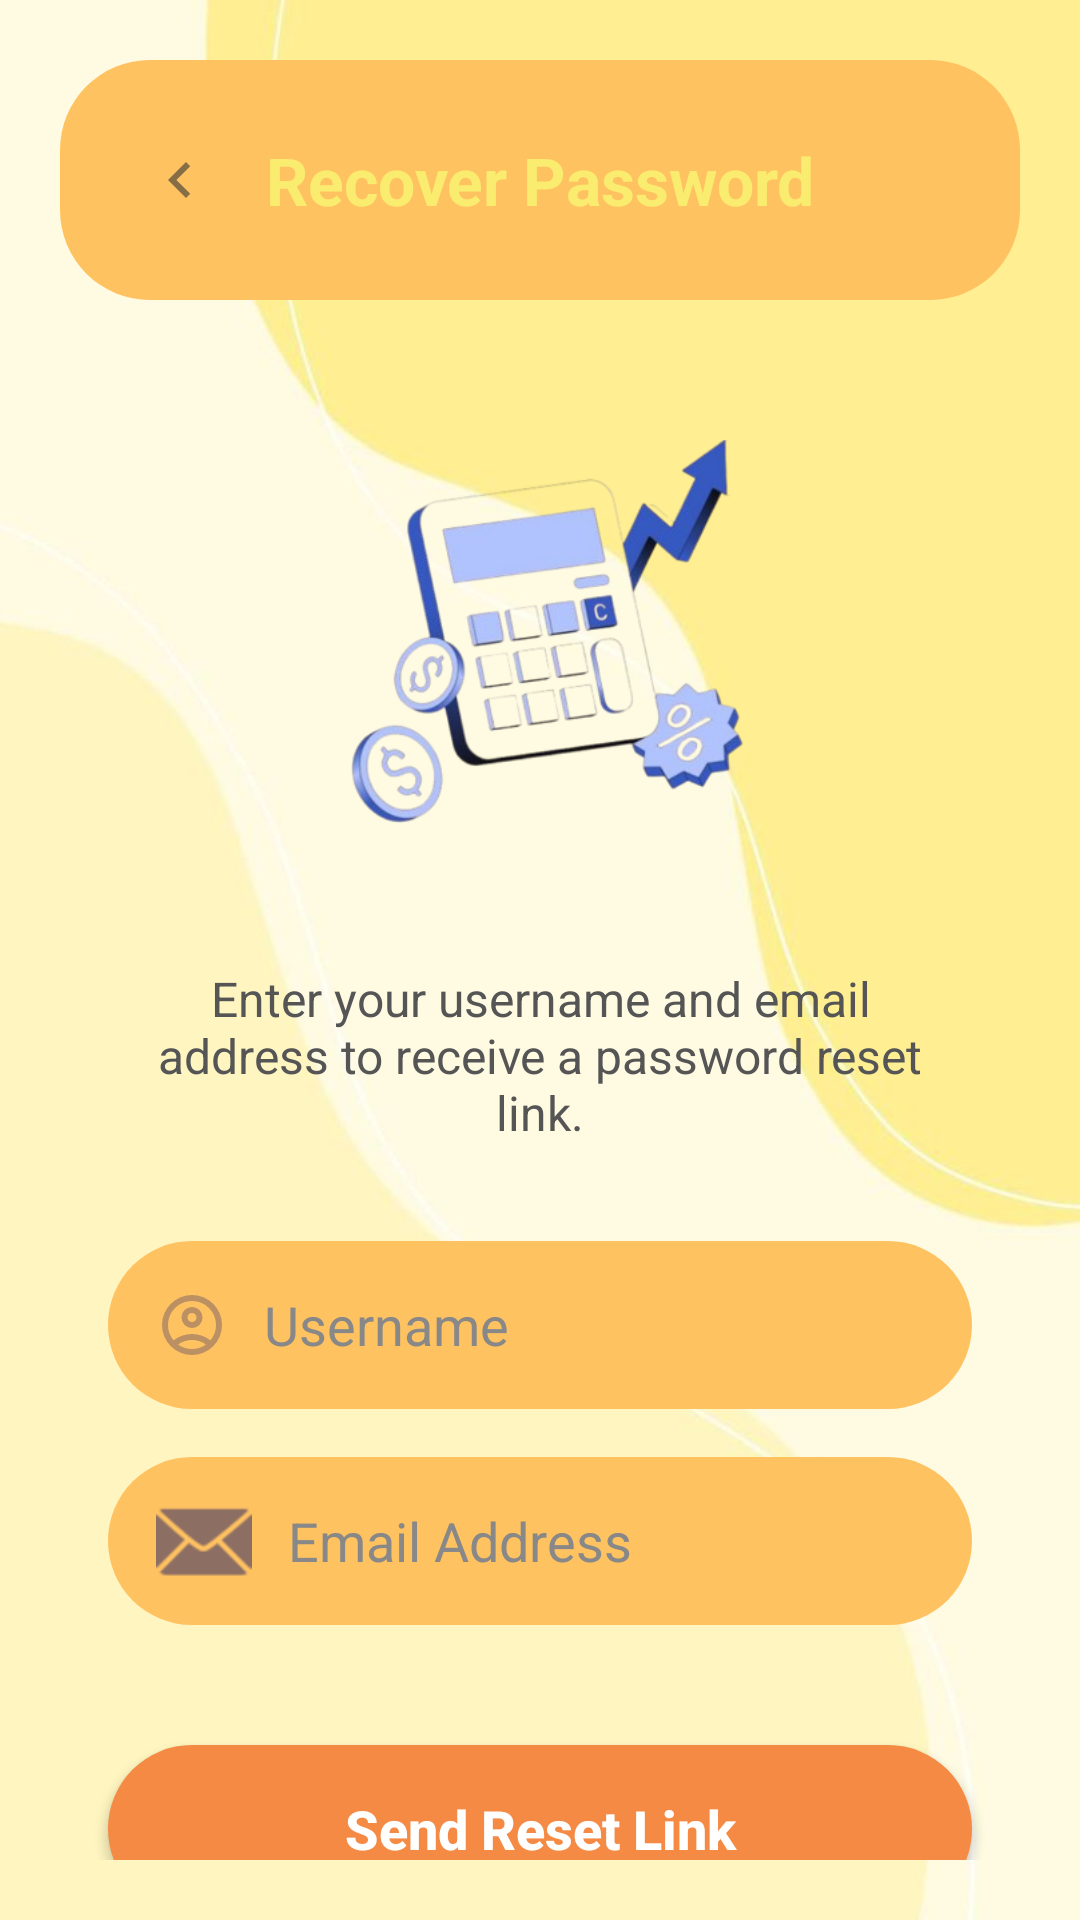

Where icons sit on this 1080 x 1920 app screen, as (x1, y1, x2, y2):
backarrow name: (168, 162, 190, 198)
